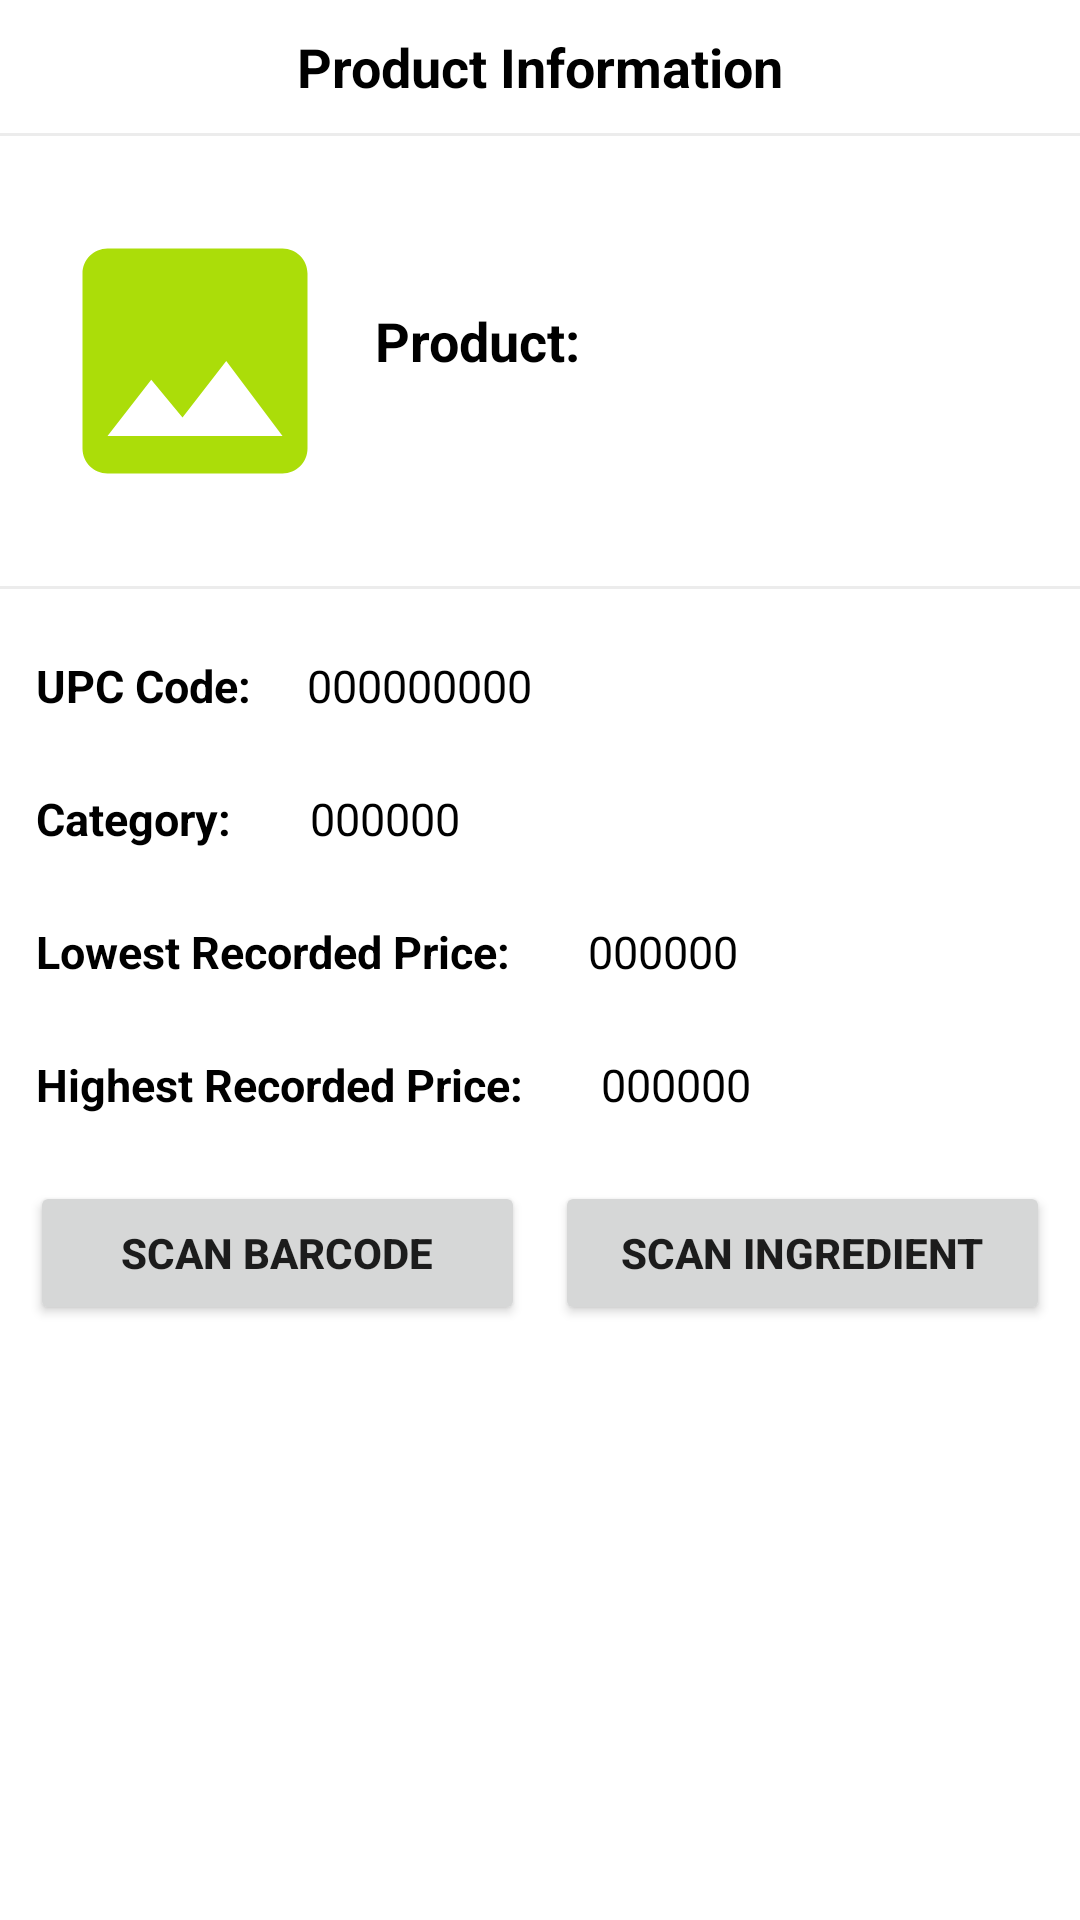

Icon click points for this 1080 × 1920 phone screenshot, format [x,y]:
gallery: [195,361]
